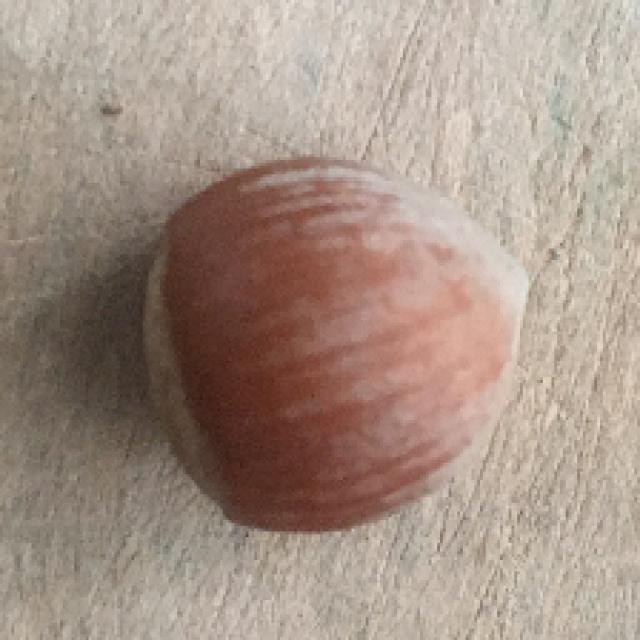qualityHazelnut: (136, 150, 542, 540)
